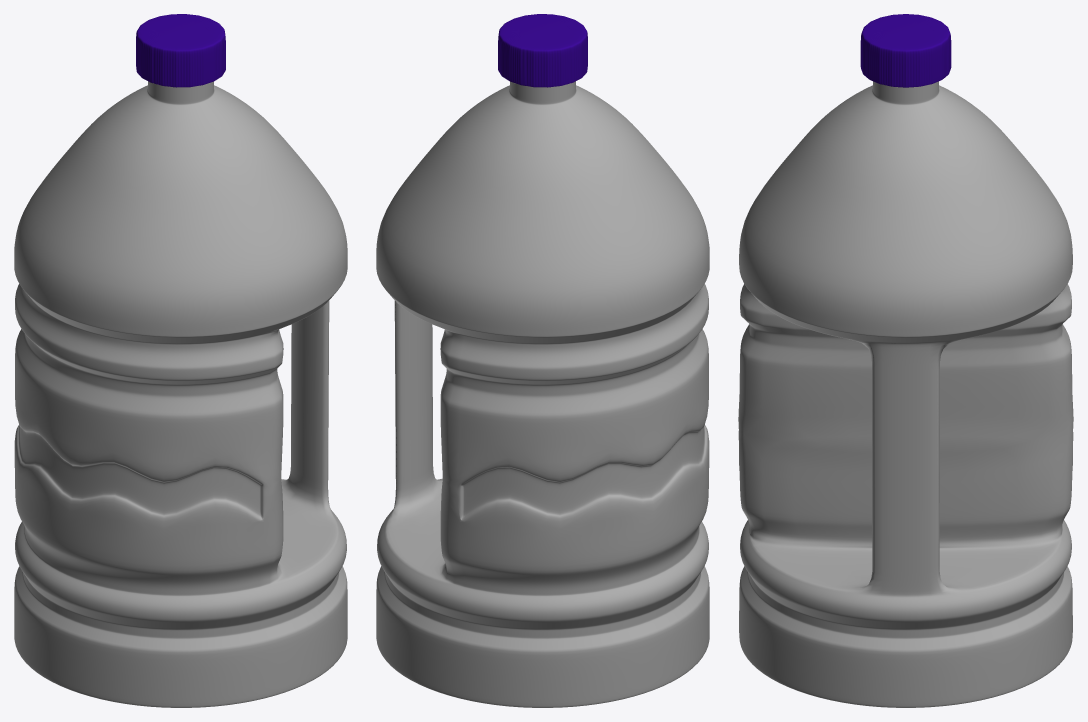
Rendered from fbx-WaterBottle.fbx.
The picture shows the model from 3 angles, left to right: view 1: azimuth 30°, elevation 25°; view 2: azimuth 150°, elevation 25°; view 3: azimuth 270°, elevation 25°; orthographic projection.
Parts seen in each view (by area): view 1: polySurface1; view 2: polySurface1; view 3: polySurface1.
Boxes of the visible parts, <box> form: polySurface1: <box>14,14,347,707</box>; polySurface1: <box>376,14,709,707</box>; polySurface1: <box>738,14,1073,707</box>.
Size of the model in its own units: 1.97 by 3.95 by 1.98.
